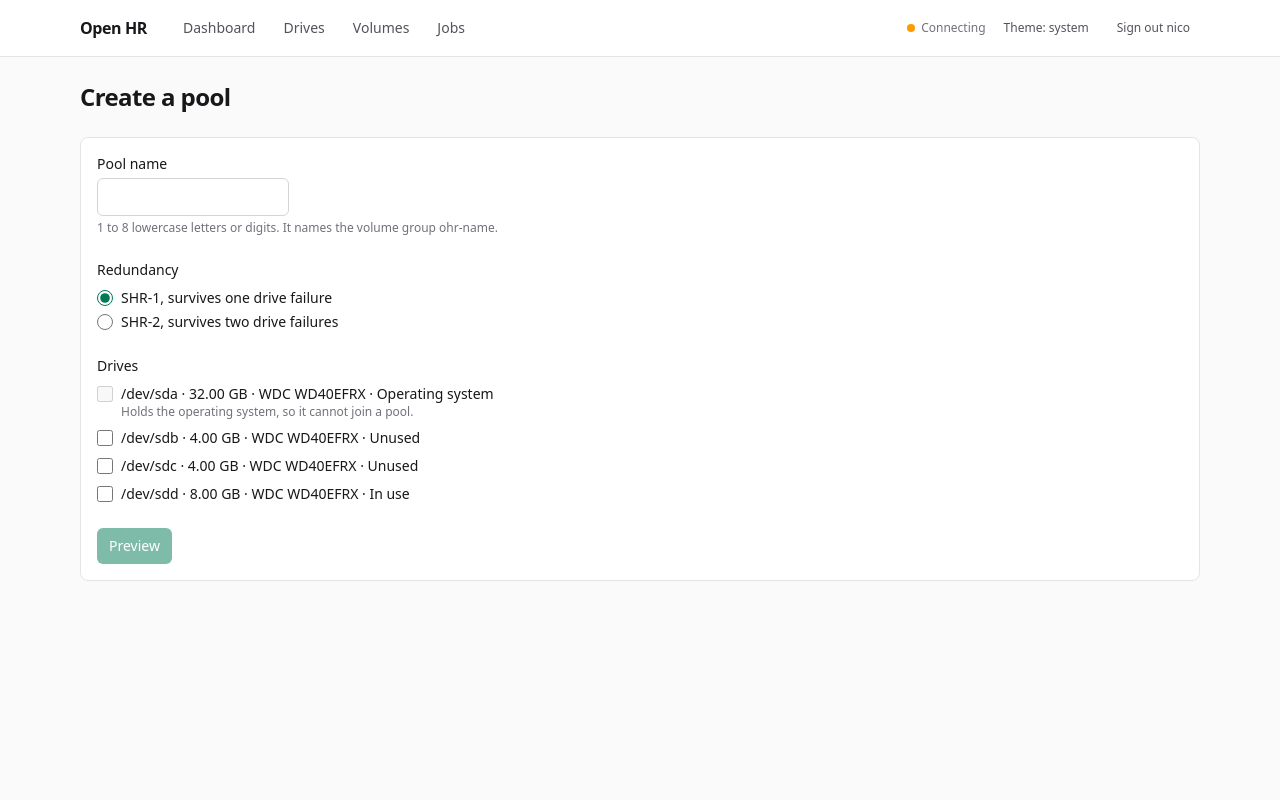
Test case: create pool › asks to wipe only when a chosen drive holds something, and shows refusals
The image size is (1280, 800).
In the field labelled "Pool name": (193, 197) [97,178,289,216], type "p2"
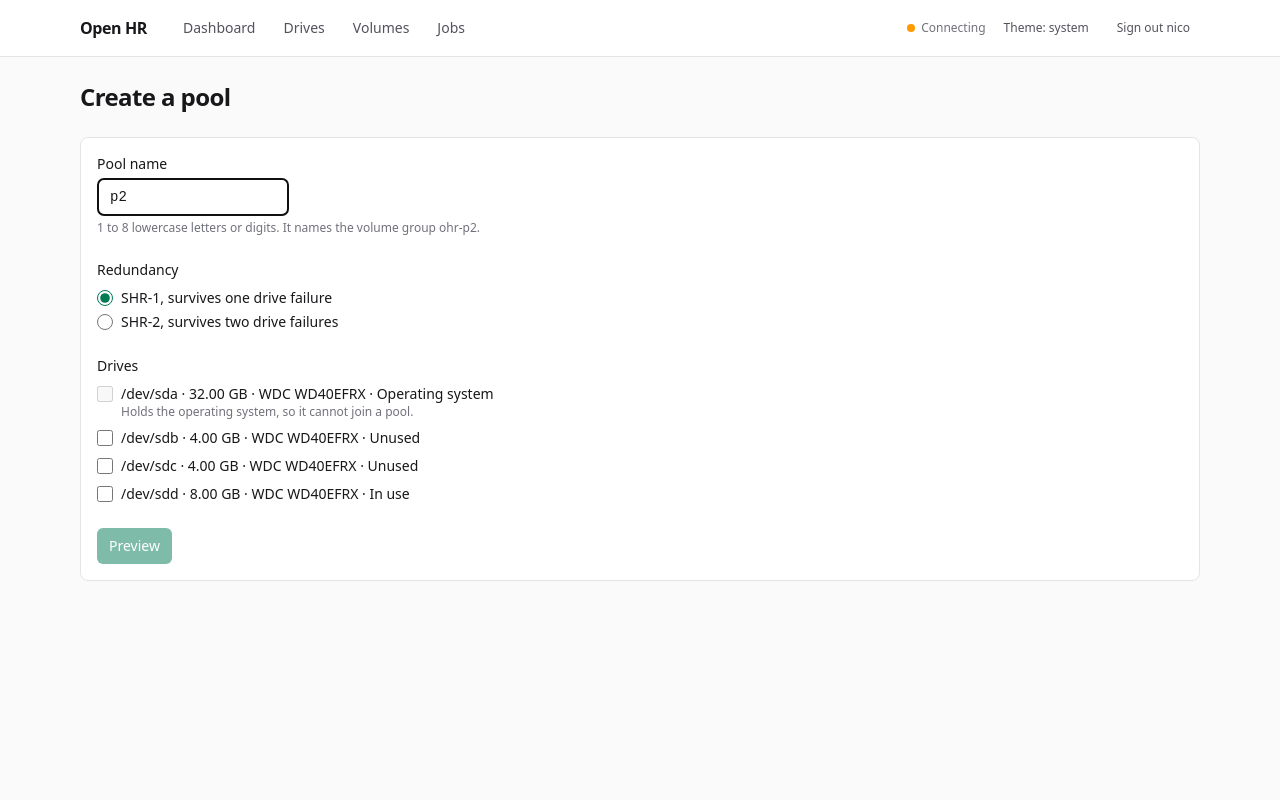
Click the checkbox labelled "/dev/sdb · 4.00 GB · WDC WD40EFRX · Unused": click(105, 438) [97,430,113,446]
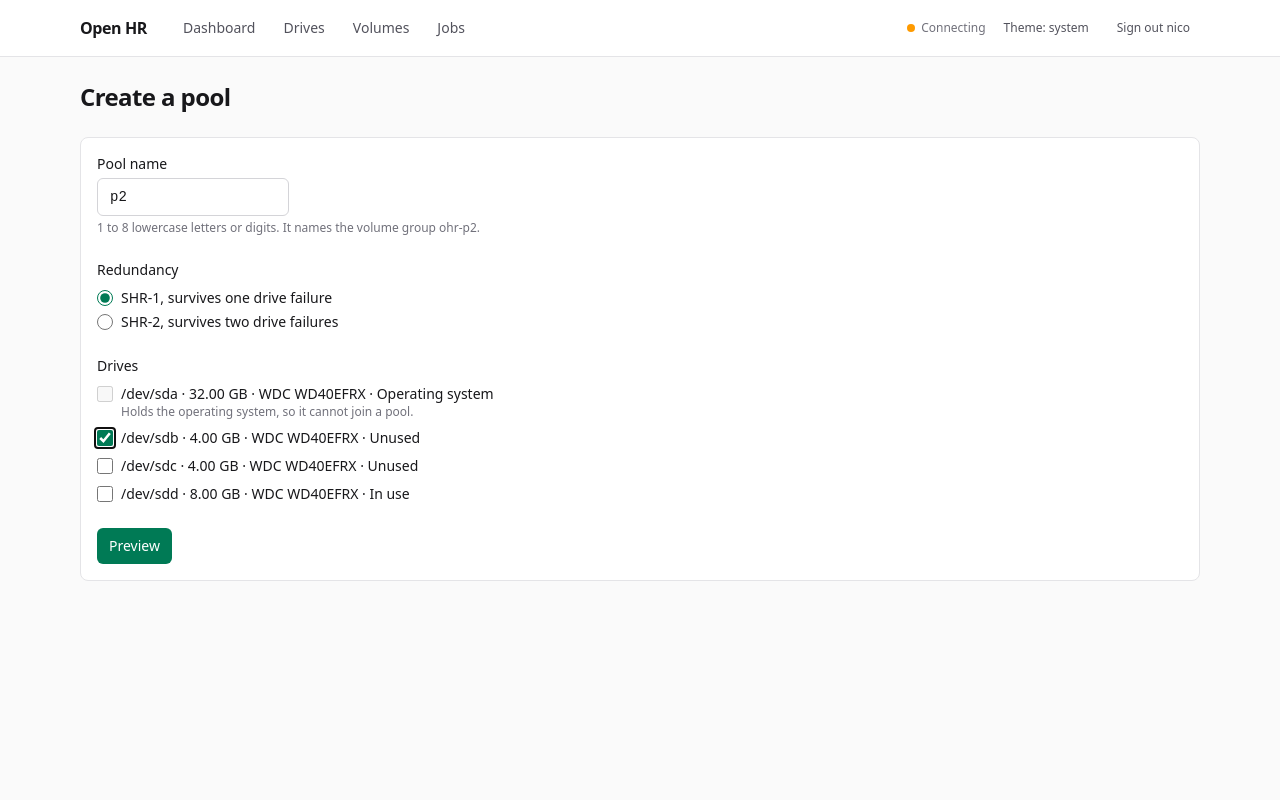
expect the text "Erase them" is not shown: met
Click the checkbox labelled "/dev/sdd · 8.00 GB · WDC WD40EFRX · In use": click(105, 494) [97,486,113,502]
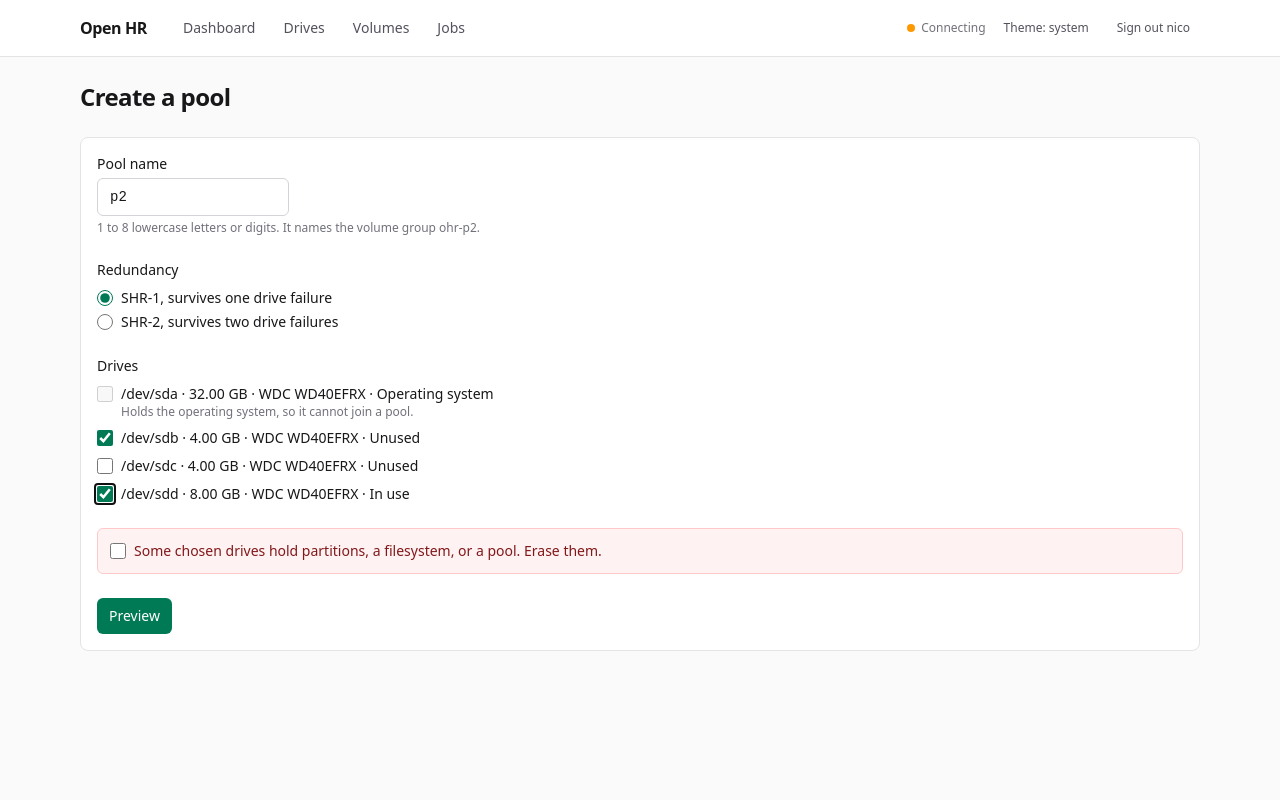
expect the text "Erase them" is shown: met, box [134,541,602,560]
Click the button "Preview": click(134, 616) [97,598,172,634]
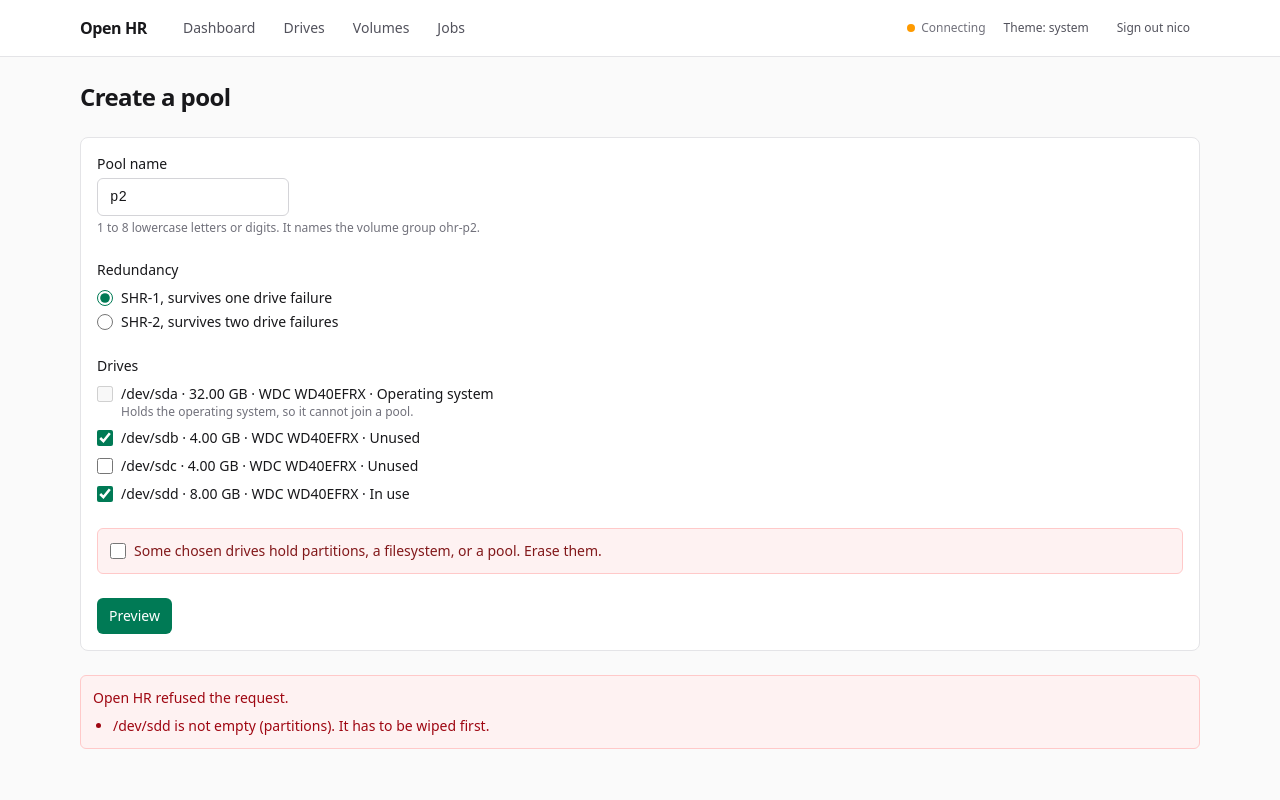
expect the message shows "/dev/sdd is not empty (partitions). It has to be wiped first.": met, box [113,716,489,735]
